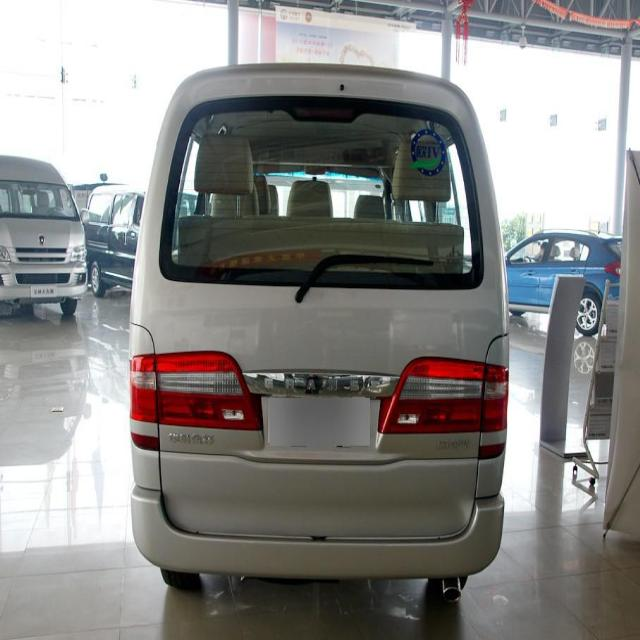back_glass: (156, 85, 489, 297)
back_left_side_light: (123, 347, 271, 463)
back_right_side_light: (371, 348, 514, 468)
rear_bumper: (124, 480, 508, 593)
